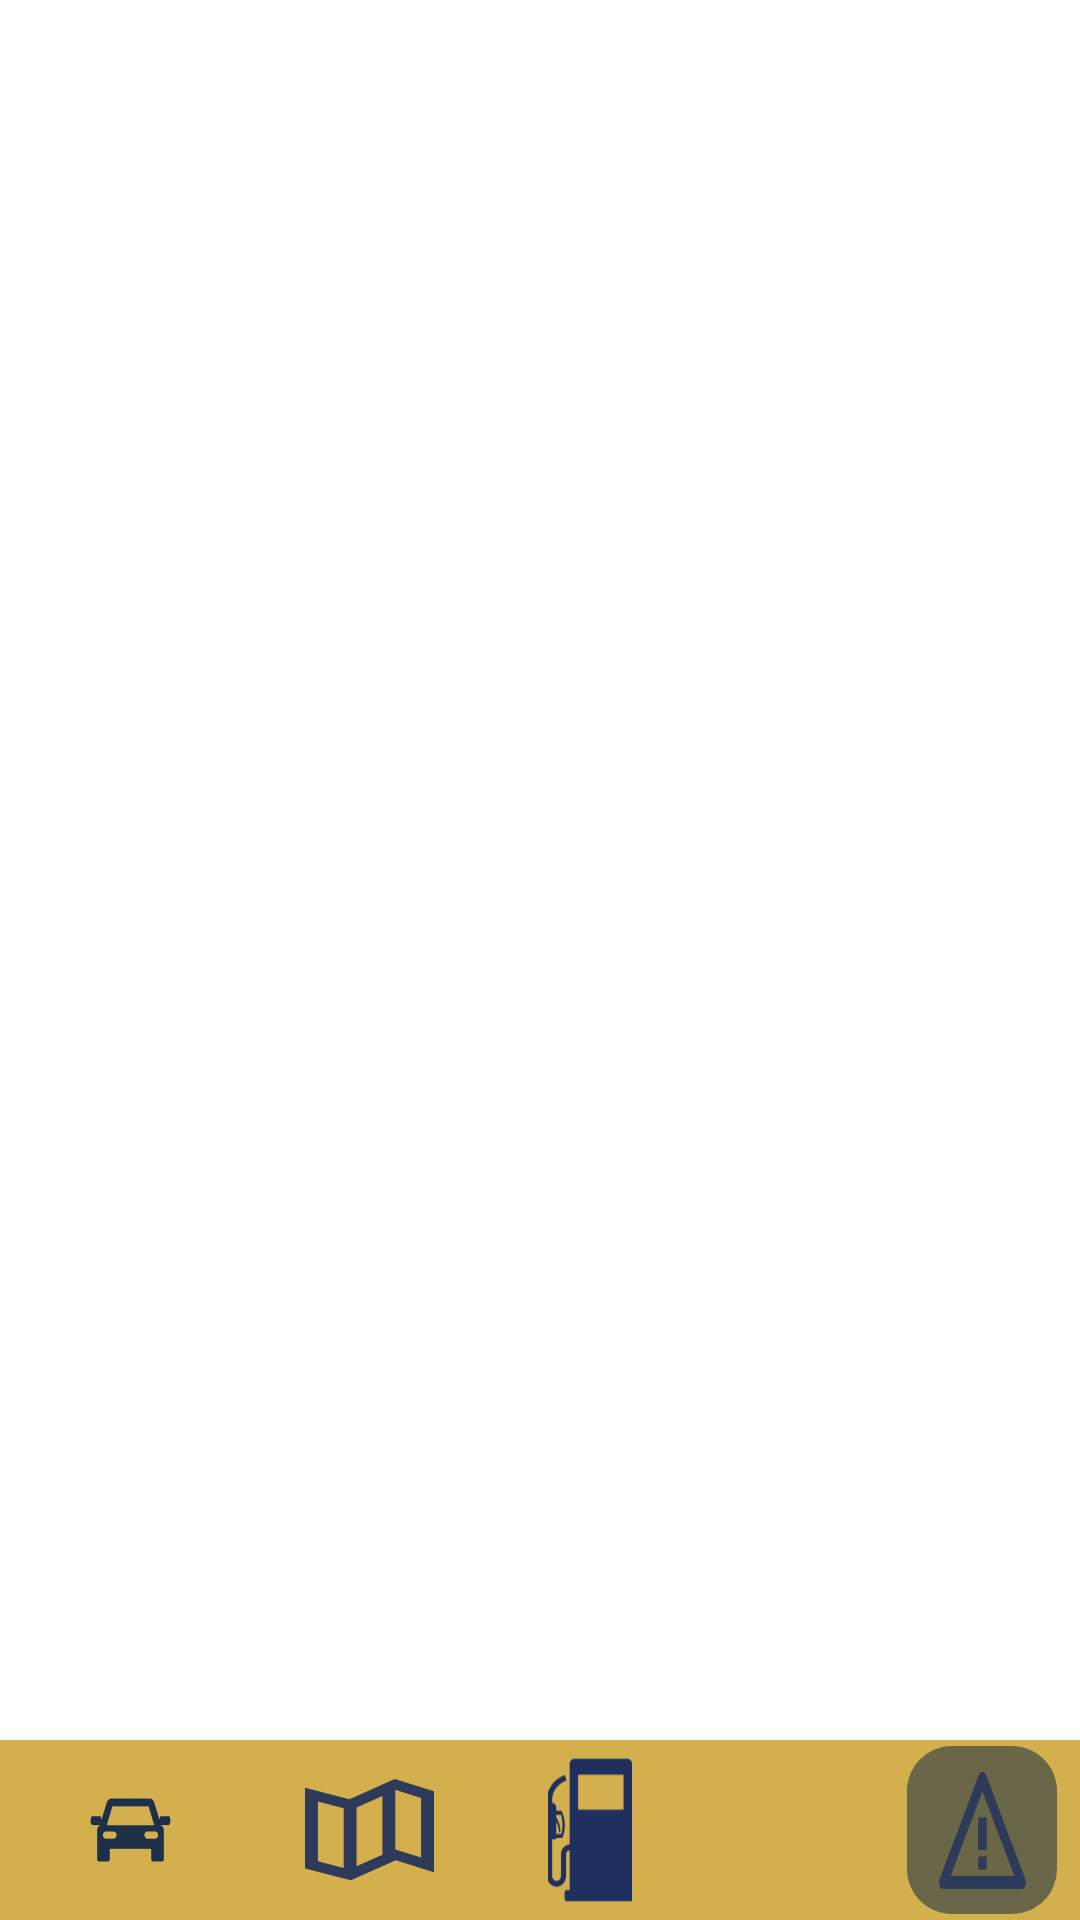

Icons on this 1080*1920 Android screen, each with its box as (x1, y1, x2, y2):
gasdarkblue: (548, 1758, 632, 1902)
map: (305, 1779, 434, 1881)
warning: (939, 1772, 1026, 1889)
